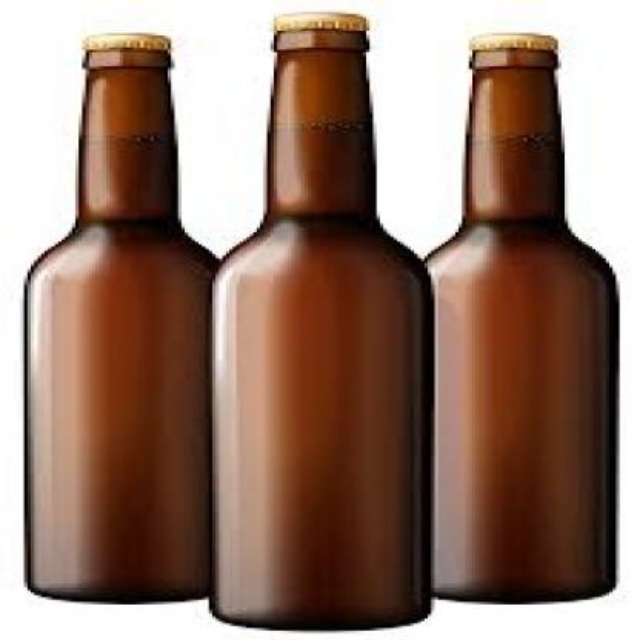trash: (212, 14, 431, 626), (25, 34, 215, 600), (428, 34, 617, 600)
